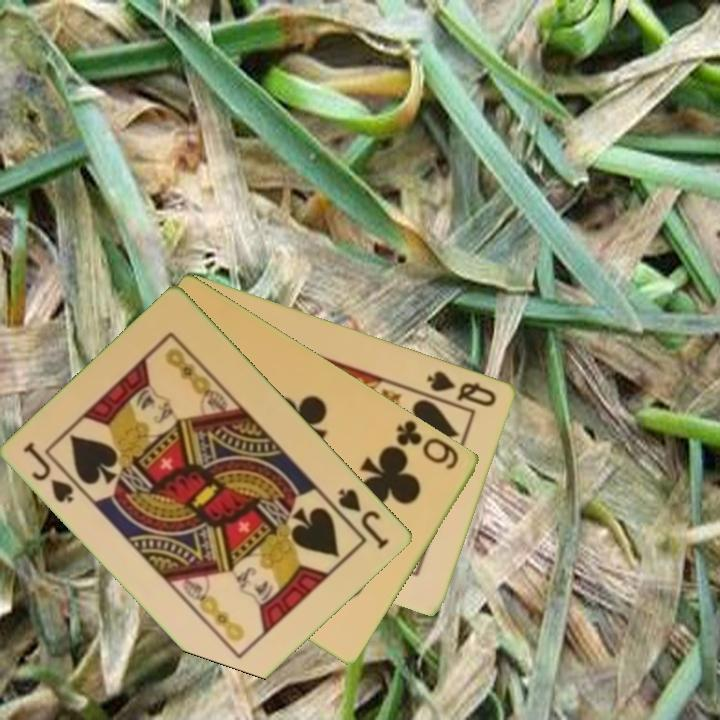6c: (393, 416, 463, 473)
Js: (20, 438, 86, 507), (334, 485, 393, 553)
Qs: (423, 367, 500, 410)
